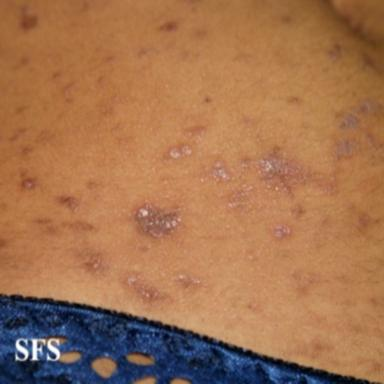lichen: (240, 146, 337, 200), (61, 220, 109, 273), (134, 204, 181, 238), (122, 273, 169, 303), (338, 100, 380, 131), (292, 269, 321, 297), (199, 161, 229, 185), (334, 138, 359, 161), (19, 6, 38, 31), (366, 133, 384, 159), (181, 125, 207, 141), (354, 211, 371, 235), (174, 274, 202, 288), (57, 196, 80, 212), (33, 219, 57, 234), (20, 173, 38, 190), (169, 146, 192, 158), (288, 204, 305, 219), (9, 127, 27, 141), (159, 19, 178, 32), (35, 131, 55, 142), (274, 225, 290, 238), (329, 44, 341, 61), (138, 48, 155, 57), (19, 145, 34, 155), (192, 30, 207, 39), (86, 180, 97, 191), (287, 97, 300, 104)
